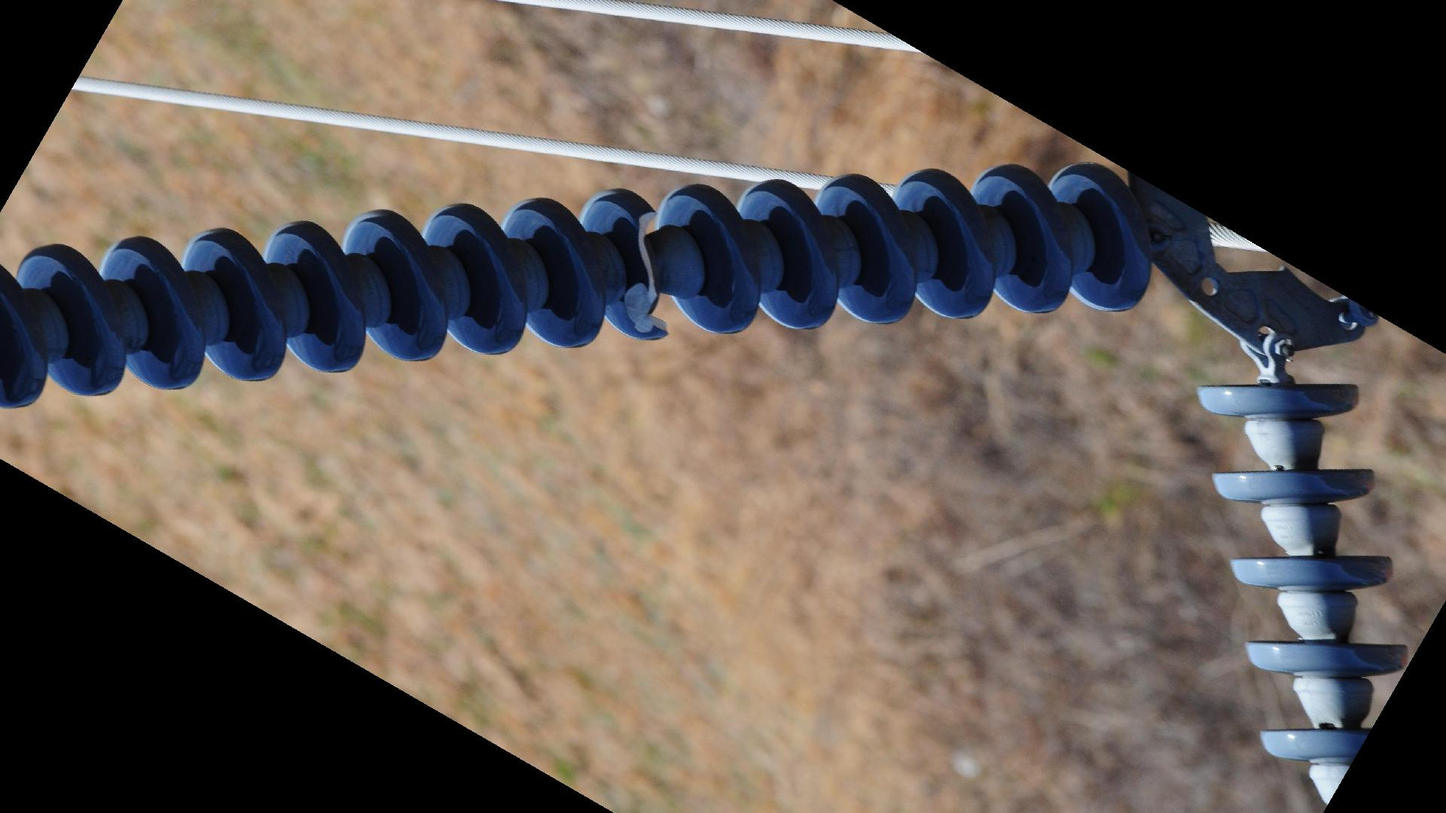insulator: (1, 152, 1162, 414), (1183, 376, 1414, 813)
insulator_breakage: (625, 200, 676, 345)
